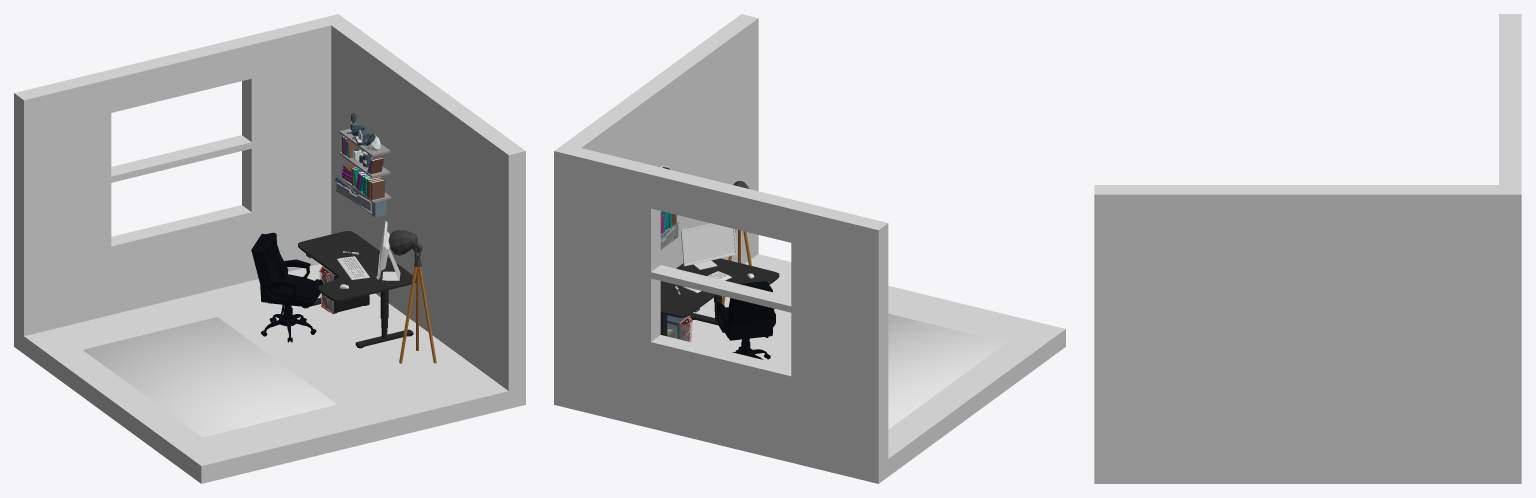
3 views of the same model, side by side, from view 1: azimuth 30°, elevation 25°; view 2: azimuth 150°, elevation 25°; view 3: azimuth 270°, elevation 25° (orthographic). The views are drawn at different scales.
Parts seen in each view (by area): view 1: Plane, Cube.002, Cube.007_Cube.008, ExecutiveChair1, Shelf Clutter, Cylinder398, group549538436, Monitor, Cylinder400; view 2: Plane, Cube.002, Cube.007_Cube.008, ExecutiveChair1, Monitor, Shelf Clutter, group549538436; view 3: Plane.
Boxes of the visible parts, x1,y1,x2,y2 form: Plane: [14, 14, 525, 483]; Cube.002: [83, 317, 336, 437]; Cube.007_Cube.008: [298, 231, 416, 348]; ExecutiveChair1: [251, 232, 323, 342]; Shelf Clutter: [334, 113, 391, 217]; Cylinder398: [399, 248, 436, 363]; group549538436: [319, 266, 369, 313]; Monitor: [376, 221, 400, 280]; Cylinder400: [388, 230, 422, 255]; Plane: [554, 14, 1065, 483]; Cube.002: [888, 313, 1005, 429]; Cube.007_Cube.008: [660, 258, 779, 336]; ExecutiveChair1: [716, 281, 775, 359]; Monitor: [681, 223, 736, 269]; Shelf Clutter: [660, 166, 678, 249]; group549538436: [667, 315, 692, 341]; Plane: [1094, 14, 1521, 483].
Size of the model in its own units: 4.24 by 3.17 by 4.24.
